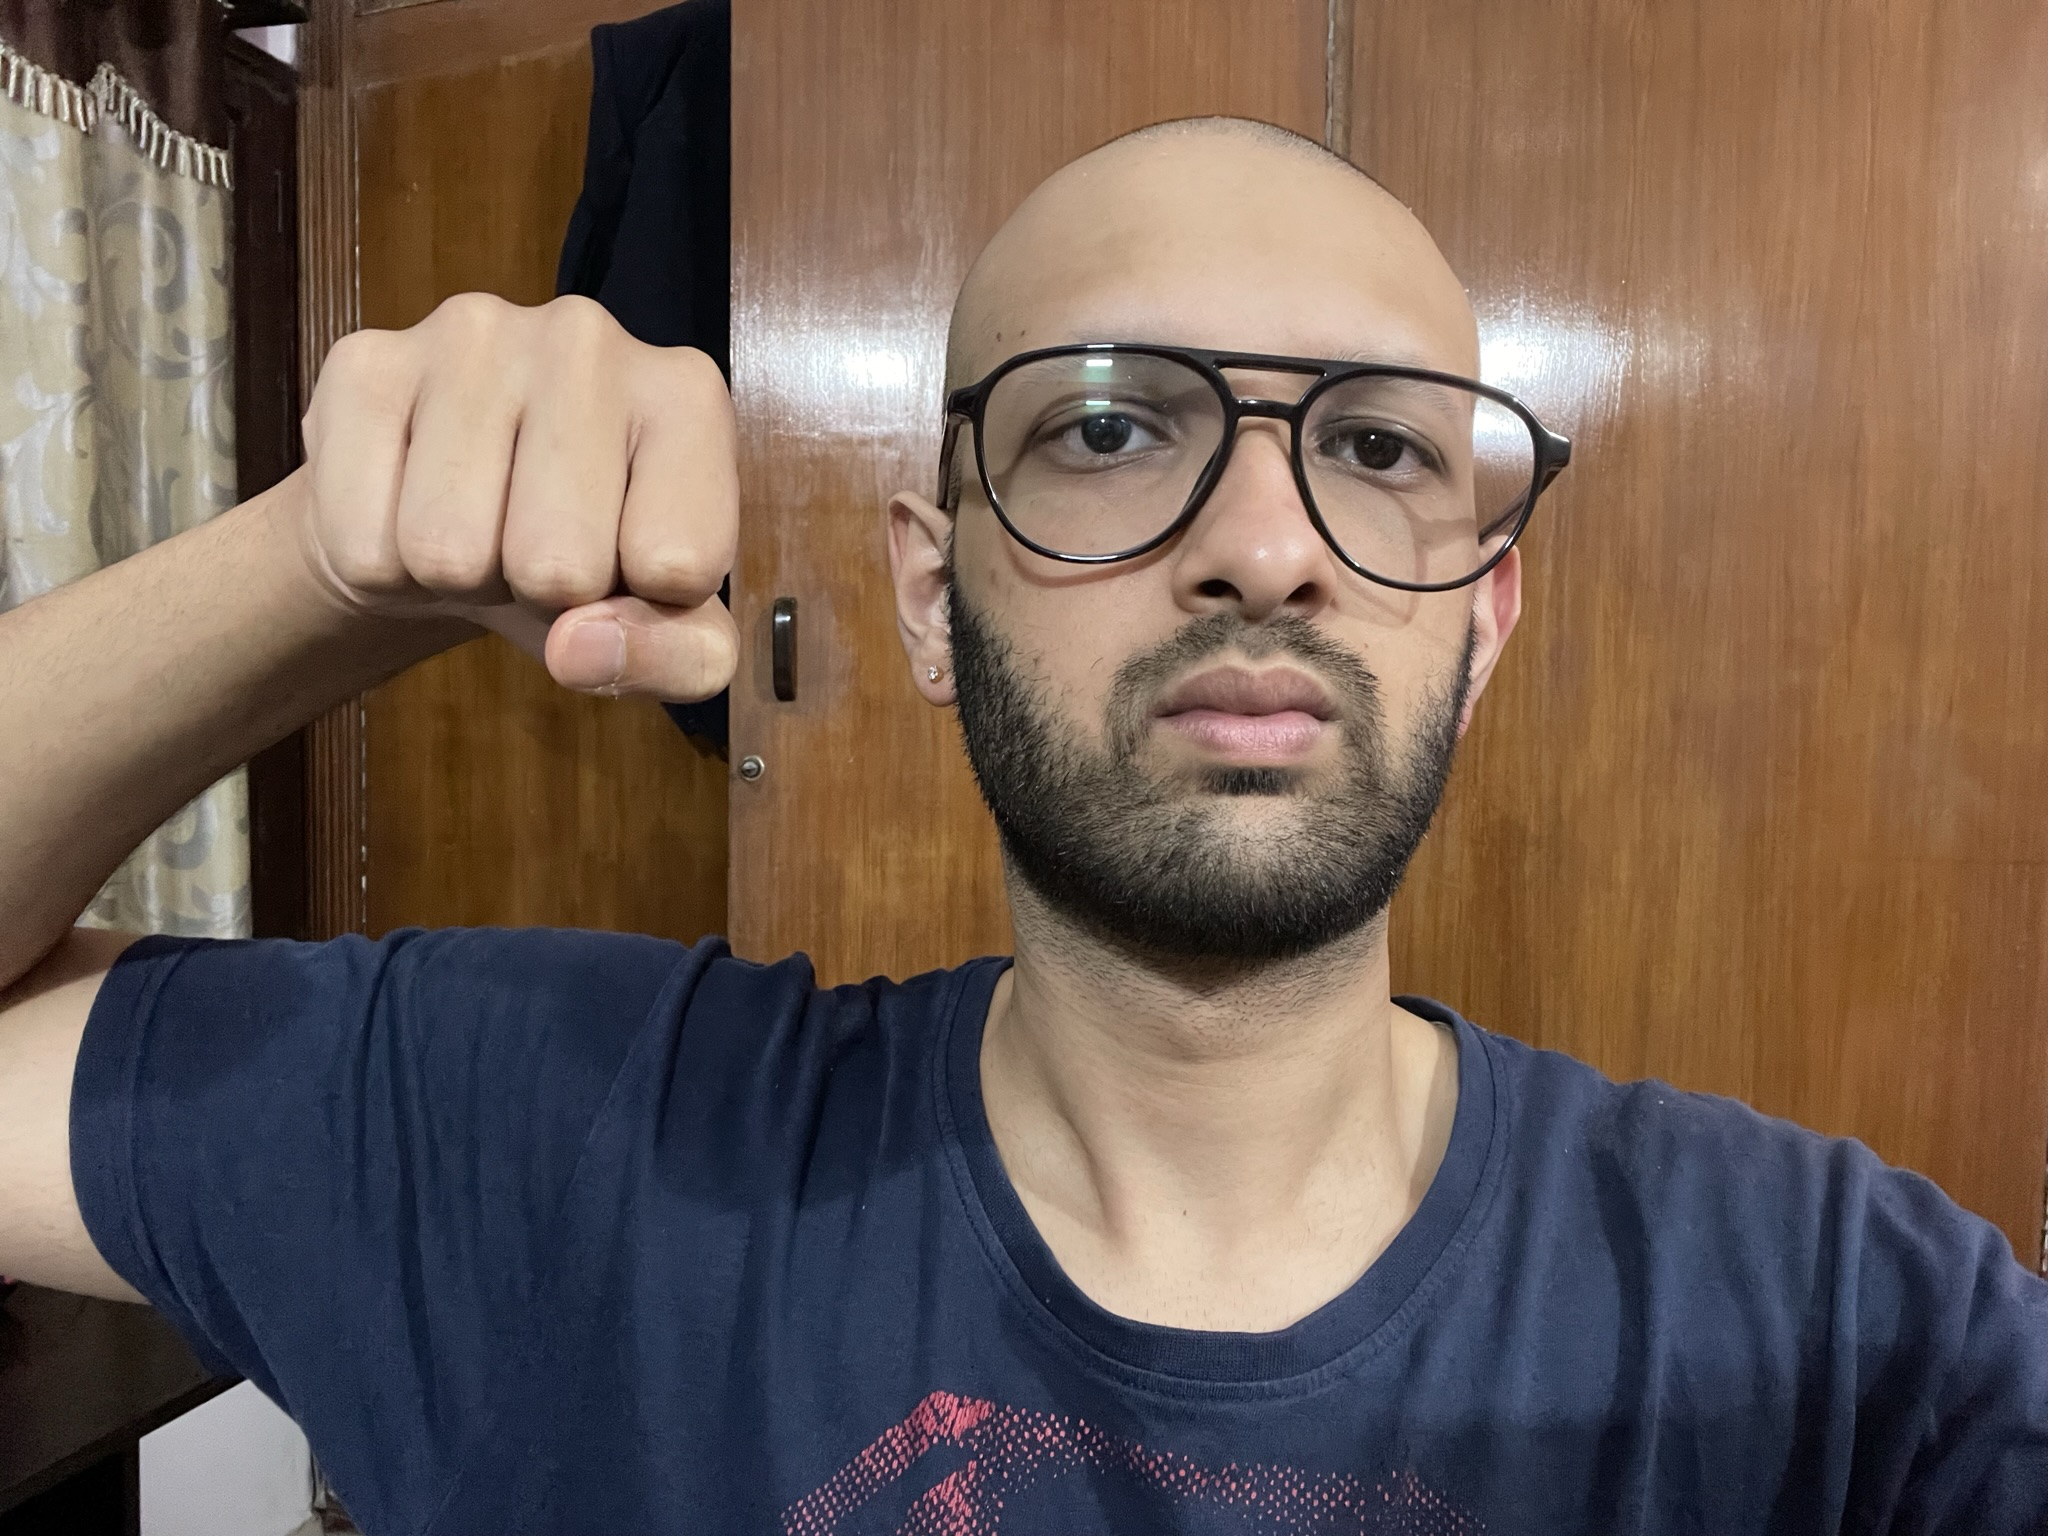Yes: (293, 279, 748, 707)
